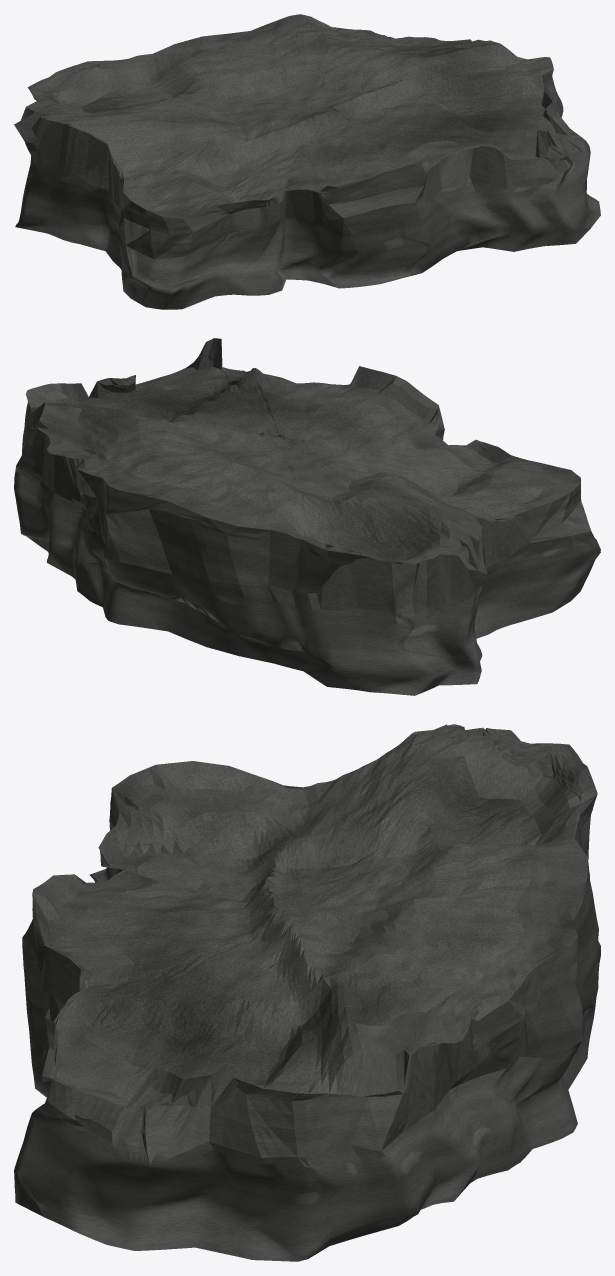
Rendered from f3_concrete_rubble_v29_large.glb.
3 views of the same model, one above another, from view 1: azimuth 30°, elevation 25°; view 2: azimuth 150°, elevation 25°; view 3: azimuth 270°, elevation 25° (orthographic). The views are drawn at different scales.
Visible parts, largest first — view 1: F3_CONCRETE_RUBBLE01_V29_large; view 2: F3_CONCRETE_RUBBLE01_V29_large; view 3: F3_CONCRETE_RUBBLE01_V29_large.
Boxes of the visible parts, left/top/right/bottom form: F3_CONCRETE_RUBBLE01_V29_large: left=14, top=14, right=600, bottom=309; F3_CONCRETE_RUBBLE01_V29_large: left=14, top=338, right=600, bottom=695; F3_CONCRETE_RUBBLE01_V29_large: left=14, top=724, right=600, bottom=1261.
Bounding box in the file's own units: 0.5802 × 0.1496 × 0.4024.
2 materials, 2 textured.
